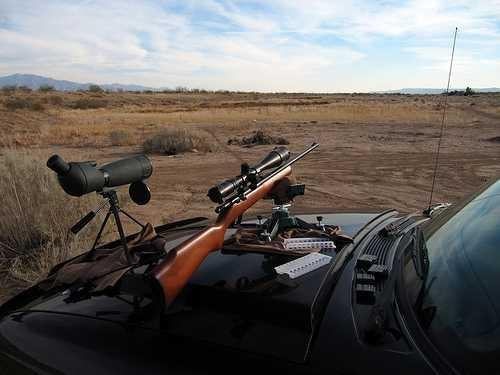heavyweapon: (130, 123, 336, 331)
